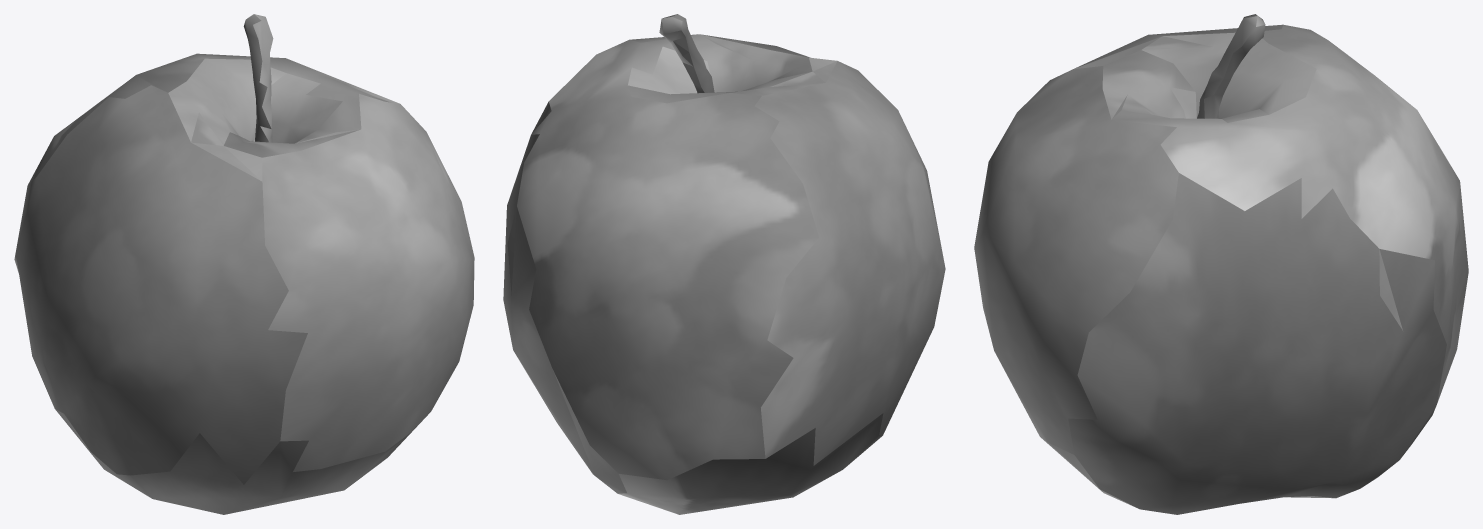
The model's file is SM_Apple_02c.fbx.
3 views of the same model, side by side, from view 1: azimuth 30°, elevation 25°; view 2: azimuth 150°, elevation 25°; view 3: azimuth 270°, elevation 25° (orthographic). The views are drawn at different scales.
Parts seen in each view (by area): view 1: SM_Apple_02c_LOD0; view 2: SM_Apple_02c_LOD0; view 3: SM_Apple_02c_LOD0.
Boxes of the visible parts, x1,y1,x2,y2 form: SM_Apple_02c_LOD0: (14,14,474,514); SM_Apple_02c_LOD0: (503,14,945,514); SM_Apple_02c_LOD0: (974,14,1468,514).
Bounding box in the file's own units: 9.27 × 9.82 × 10.62.
